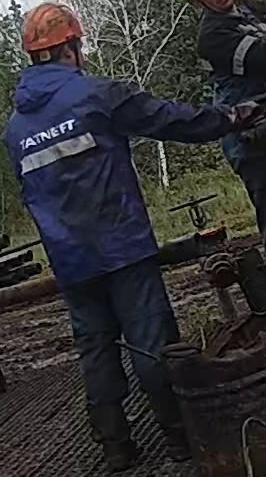helmet: (21, 1, 84, 53)
vest: (3, 62, 160, 288), (197, 1, 265, 171)
